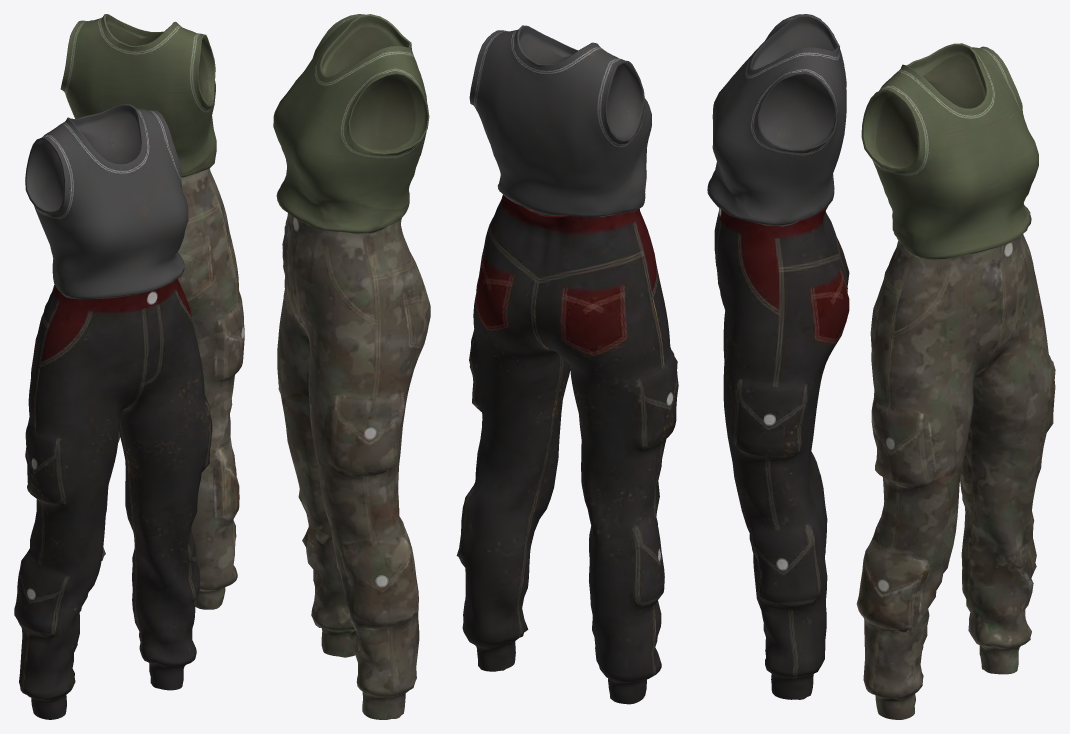
File: f_cargo.glb
The picture shows the model from 3 angles, left to right: view 1: azimuth 30°, elevation 25°; view 2: azimuth 150°, elevation 25°; view 3: azimuth 270°, elevation 25°; orthographic projection. The views are drawn at different scales.
Parts seen in each view (by area): view 1: Pants_low_Pants_leather_0, Top_low_Shirt_1_0, Pants_low.001_Pants_army_0, Top_low.001_Shirt_2_0; view 2: Pants_low_Pants_leather_0, Pants_low.001_Pants_army_0, Top_low_Shirt_1_0, Top_low.001_Shirt_2_0; view 3: Pants_low.001_Pants_army_0, Pants_low_Pants_leather_0, Top_low.001_Shirt_2_0, Top_low_Shirt_1_0.
Part boxes in pixels (box(x1,y1,x2,y2)): Pants_low_Pants_leather_0: box(14, 278, 212, 719); Top_low_Shirt_1_0: box(25, 104, 188, 299); Pants_low.001_Pants_army_0: box(52, 168, 244, 609); Top_low.001_Shirt_2_0: box(60, 14, 216, 177); Pants_low_Pants_leather_0: box(456, 195, 678, 704); Pants_low.001_Pants_army_0: box(277, 213, 430, 719); Top_low_Shirt_1_0: box(469, 25, 651, 217); Top_low.001_Shirt_2_0: box(273, 14, 429, 234); Pants_low.001_Pants_army_0: box(856, 234, 1055, 719); Pants_low_Pants_leather_0: box(714, 206, 849, 699); Top_low.001_Shirt_2_0: box(861, 43, 1038, 259); Top_low_Shirt_1_0: box(707, 14, 846, 226).
Size of the model in its own units: 6.2 by 12.91 by 6.19.
Materials: 4 (4 with a texture image).
